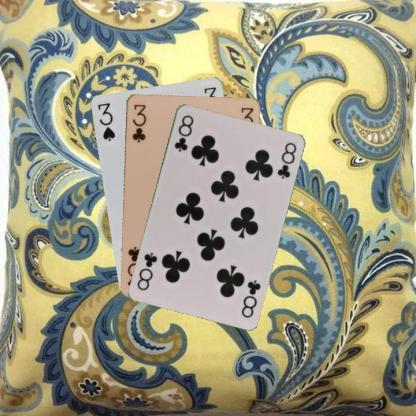3c: (130, 102, 147, 143)
3s: (94, 100, 116, 142)
8c: (238, 277, 262, 319), (171, 112, 195, 153)
